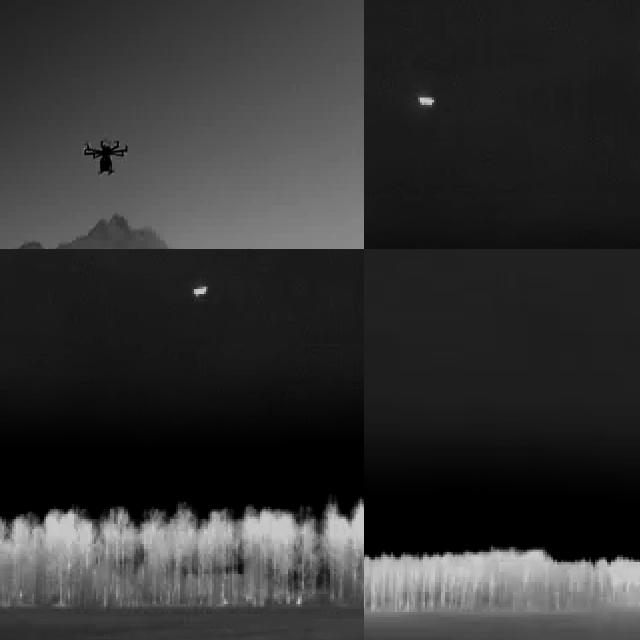1: (409, 90, 445, 120), (183, 279, 219, 309)
drone: (83, 135, 133, 179)
